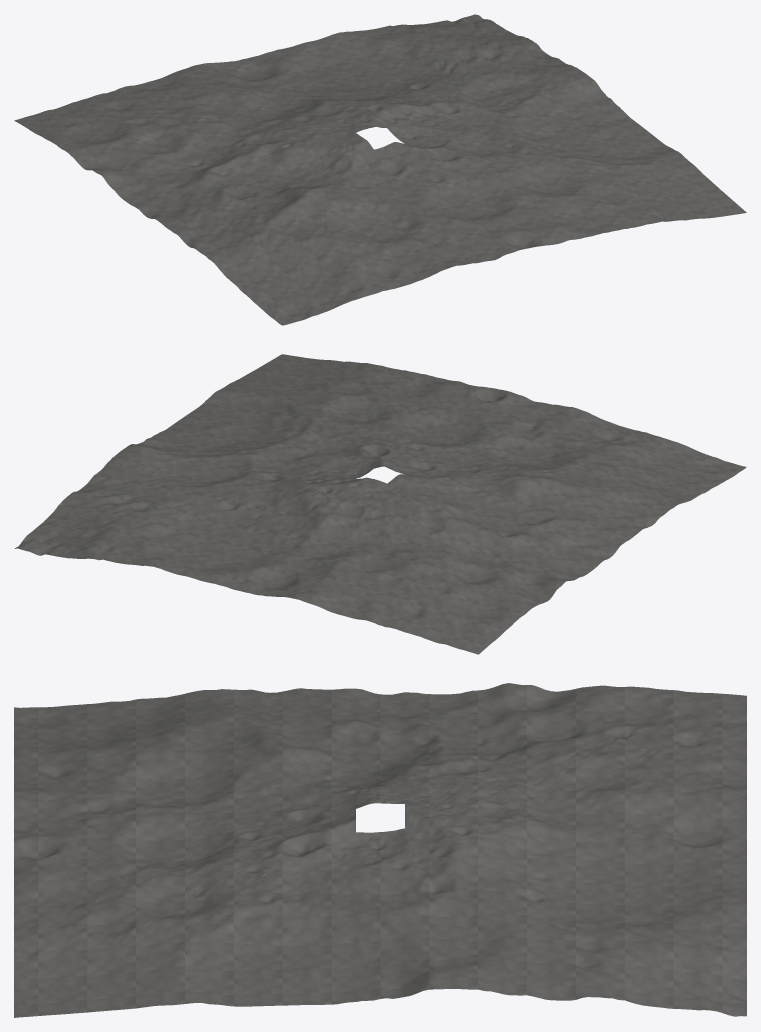
The model's file is nobile-rim_far.glb.
The picture shows the model from 3 angles, top to bottom: view 1: azimuth 30°, elevation 25°; view 2: azimuth 150°, elevation 25°; view 3: azimuth 270°, elevation 25°; orthographic projection. The views are drawn at different scales.
Visible parts, largest first — view 1: FarTerrain; view 2: FarTerrain; view 3: FarTerrain.
Part boxes in pixels (x1,y1,x2,y2): FarTerrain: [14, 14, 746, 325]; FarTerrain: [15, 354, 746, 654]; FarTerrain: [14, 683, 746, 1017].
Size of the model in its own units: 300 by 23.07 by 300.
1 material, 1 textured.
